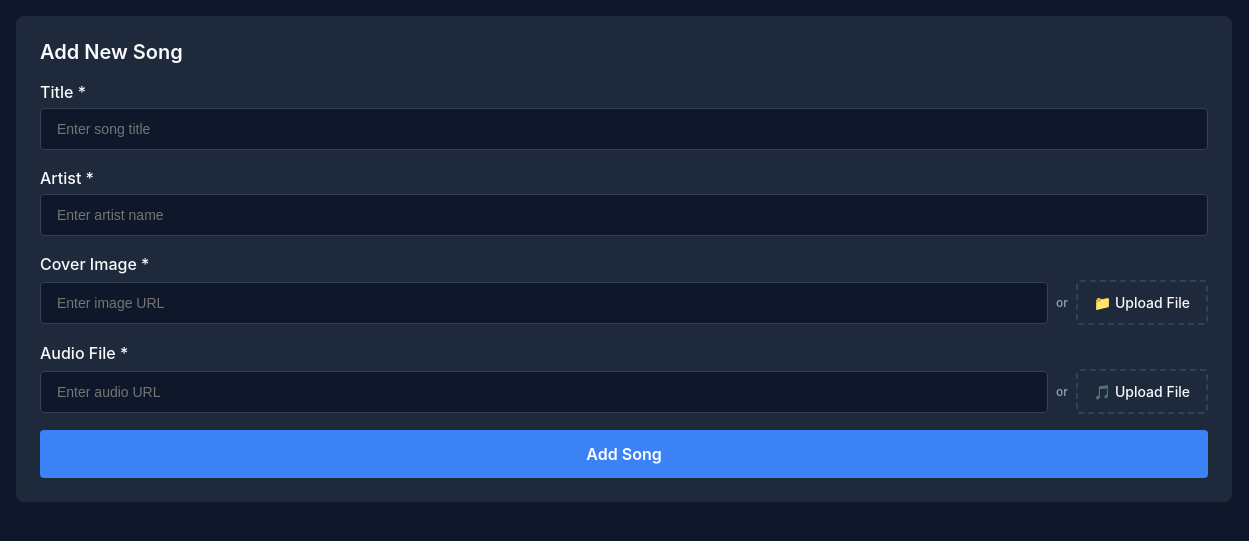
Scenario: AddSongForm Component › Form Validation - Errors › should show error when artist is empty
In the field labelled "Title *": (624, 129) x1=40 y1=108 x2=1208 y2=150, type "Song"
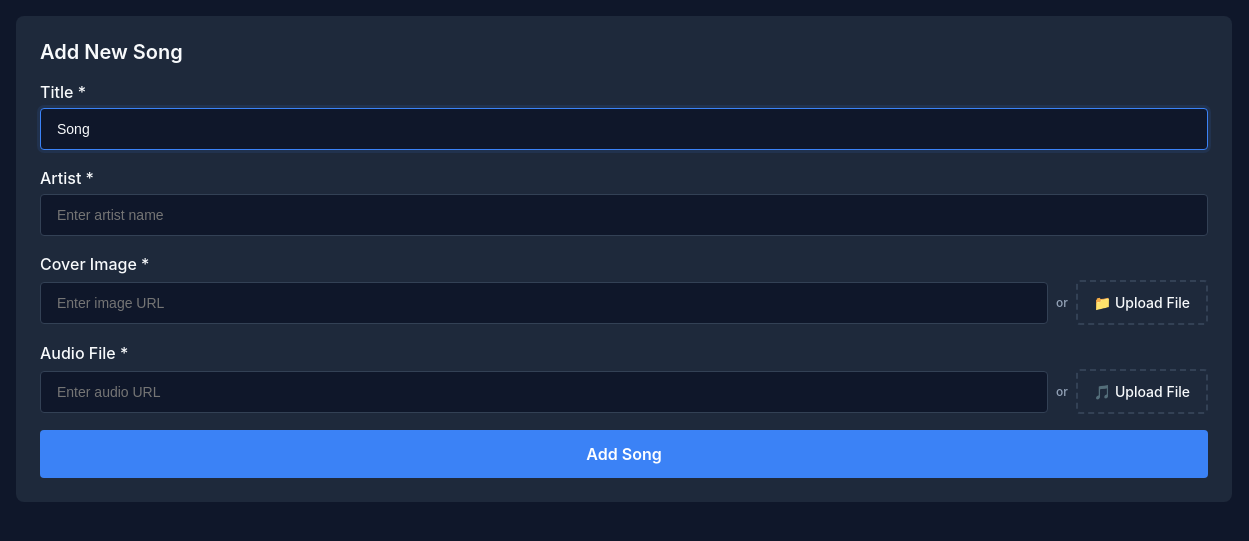
In the field labelled "Cover Image *": (544, 302) x1=40 y1=282 x2=1048 y2=324, type "https://example.com/cover.jpg"
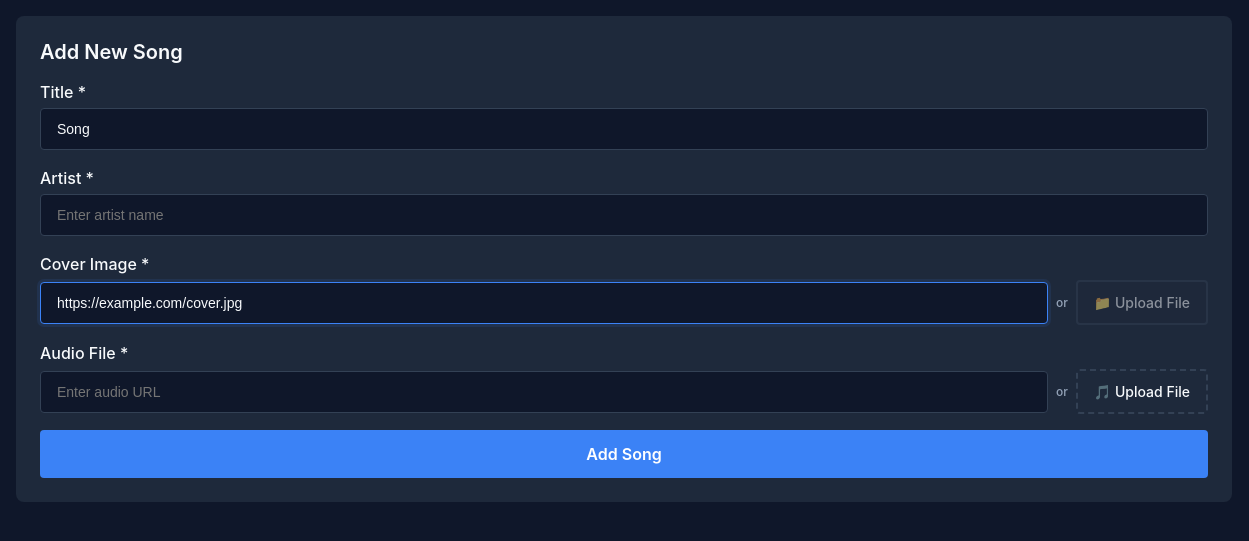
In the field labelled "Audio File *": (544, 392) x1=40 y1=370 x2=1048 y2=412, type "https://example.com/song.mp3"
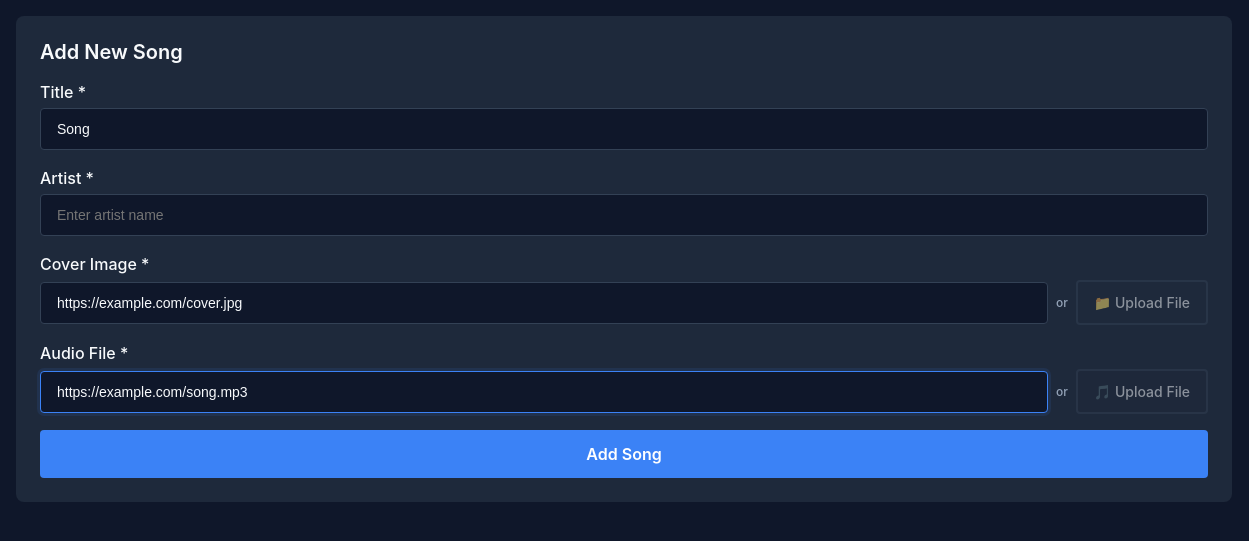
Click the button "Add Song": (624, 454) x1=40 y1=430 x2=1208 y2=478
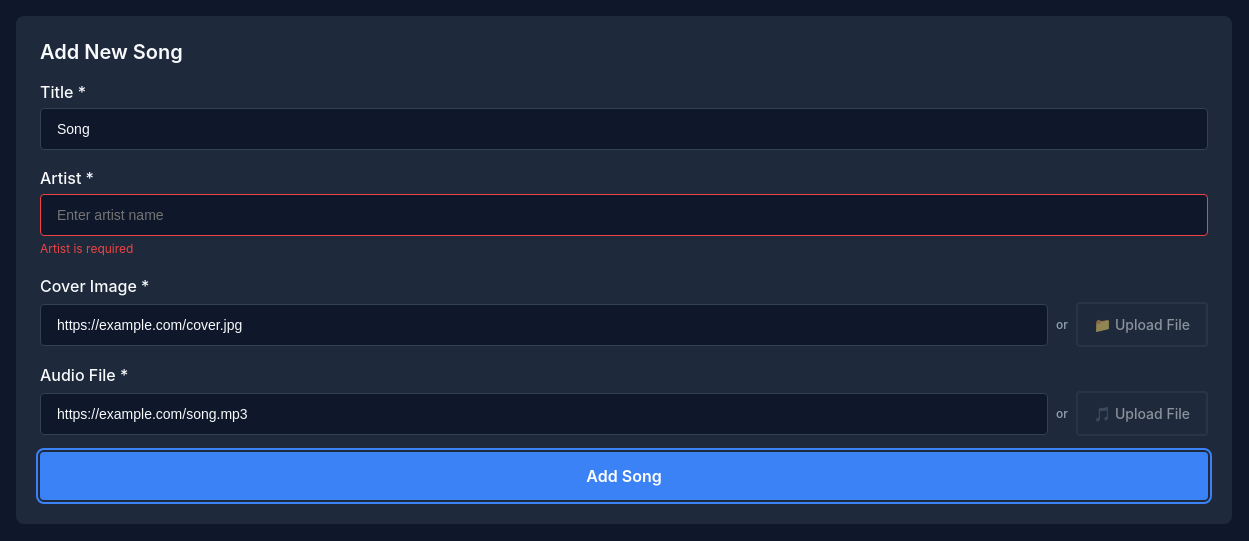
Result: the text "Artist is required" is shown at x1=40 y1=241 x2=133 y2=256
